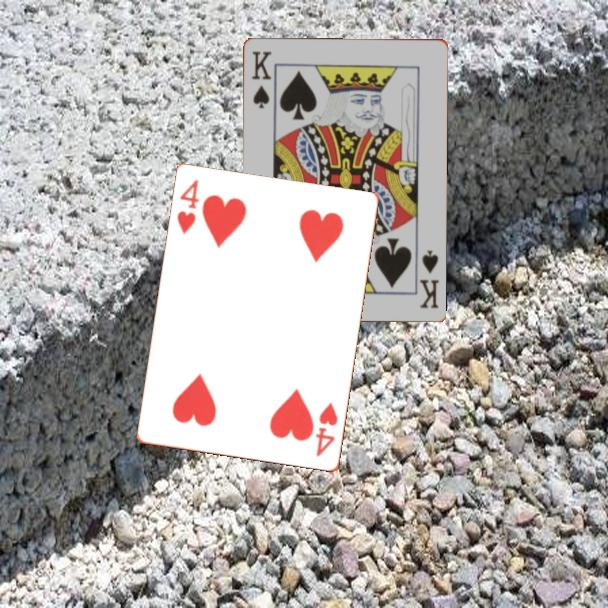h04: (312, 399, 341, 460), (174, 176, 202, 238)
s13: (416, 246, 442, 311), (248, 47, 274, 111)
